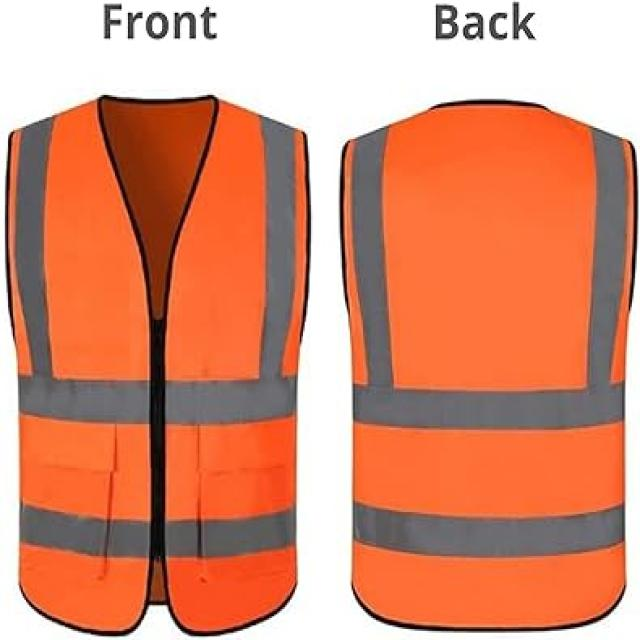safety_helmet: (6, 99, 309, 640), (330, 90, 633, 630)
